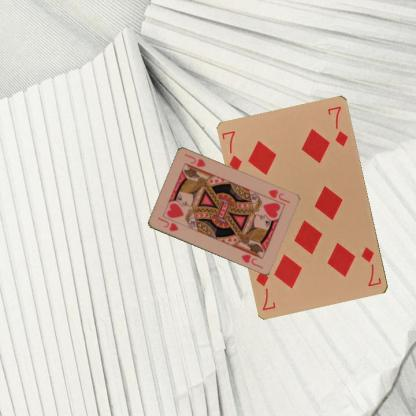7d: (220, 128, 243, 173), (359, 244, 382, 288)
Jh: (262, 187, 291, 206), (154, 214, 179, 233)
